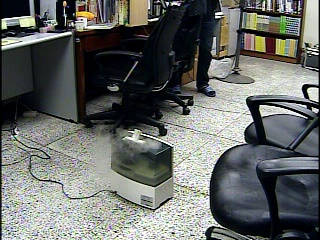smoke: (98, 125, 162, 174)
